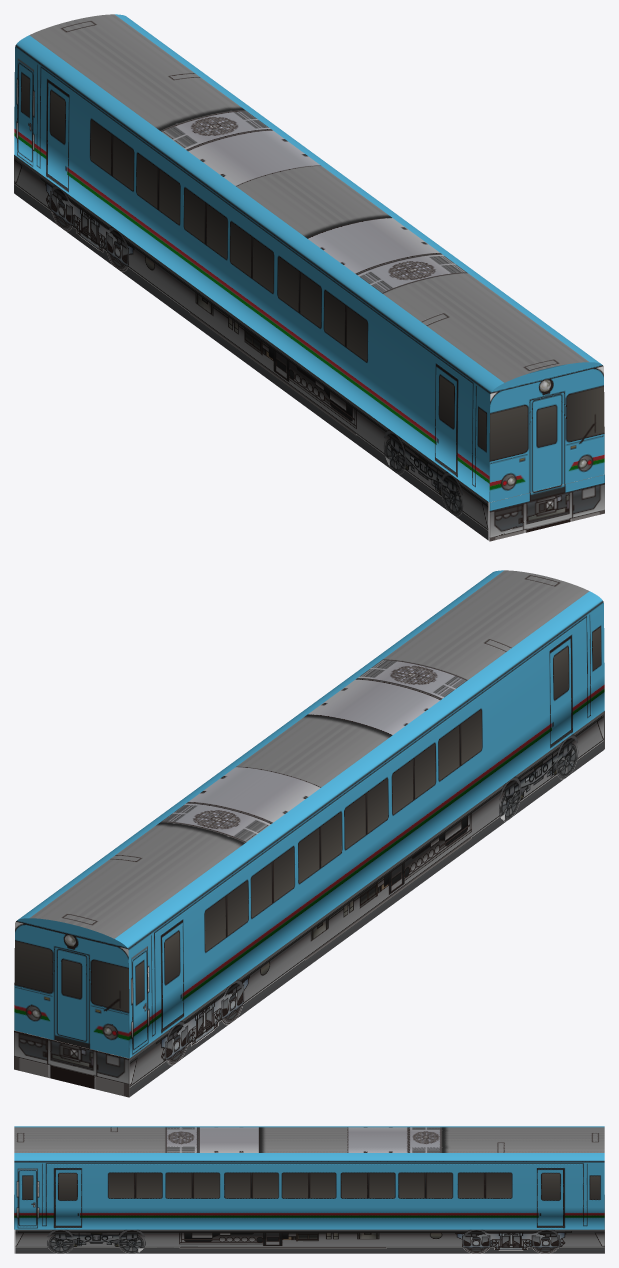
The model's file is car1.glb.
3 views of the same model, one above another, from view 1: azimuth 30°, elevation 25°; view 2: azimuth 150°, elevation 25°; view 3: azimuth 270°, elevation 25° (orthographic). The views are drawn at different scales.
Visible parts, largest first — view 1: kyototango-ktr700-car1; view 2: kyototango-ktr700-car1; view 3: kyototango-ktr700-car1.
Part boxes in pixels (<box>): kyototango-ktr700-car1: <box>14,14,604,541</box>; kyototango-ktr700-car1: <box>14,570,604,1097</box>; kyototango-ktr700-car1: <box>14,1126,604,1253</box>.
Bounding box in the file's own units: 2.8 × 3.69 × 20.03.
9 materials, 8 textured.
